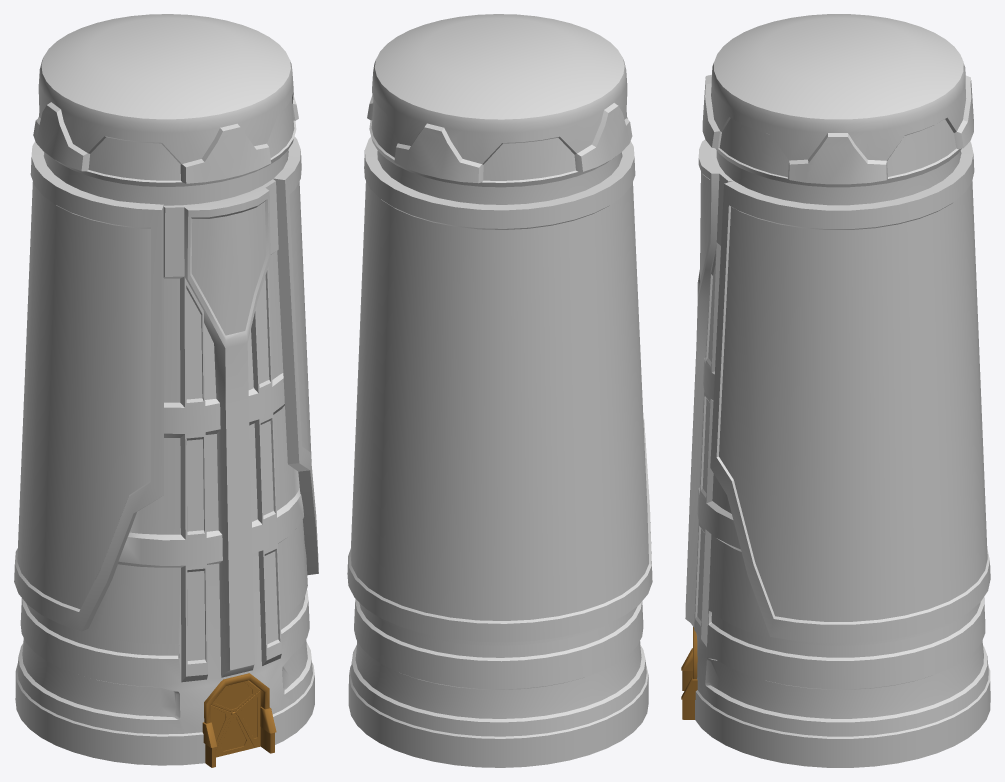
File: TourLow.fbx
3 renders of one model, left to right at view 1: azimuth 30°, elevation 25°; view 2: azimuth 150°, elevation 25°; view 3: azimuth 270°, elevation 25°, orthographic.
Parts seen in each view (by area): view 1: Tour.Low, Sup.Low, Porte.Low, PorteCotéBas.Low, PorteCotéhaut.Low, Porte.Cotédroit.Low; view 2: Sup.Low, Tour.Low; view 3: Sup.Low, Tour.Low, Porte.Low.
Boxes of the visible parts, left/top/right/bottom form: Tour.Low: left=15, top=14, right=314, bottom=765; Sup.Low: left=14, top=136, right=318, bottom=631; Porte.Low: left=202, top=673, right=276, bottom=767; PorteCotéBas.Low: left=216, top=711, right=254, bottom=757; PorteCotéhaut.Low: left=211, top=680, right=259, bottom=712; Porte.Cotédroit.Low: left=235, top=690, right=260, bottom=747; Sup.Low: left=347, top=137, right=652, bottom=642; Tour.Low: left=348, top=14, right=648, bottom=767; Sup.Low: left=710, top=141, right=990, bottom=643; Tour.Low: left=685, top=14, right=990, bottom=767; Porte.Low: left=681, top=627, right=697, bottom=719.
Bounding box in the file's own units: 15270 × 36116 × 15486.
